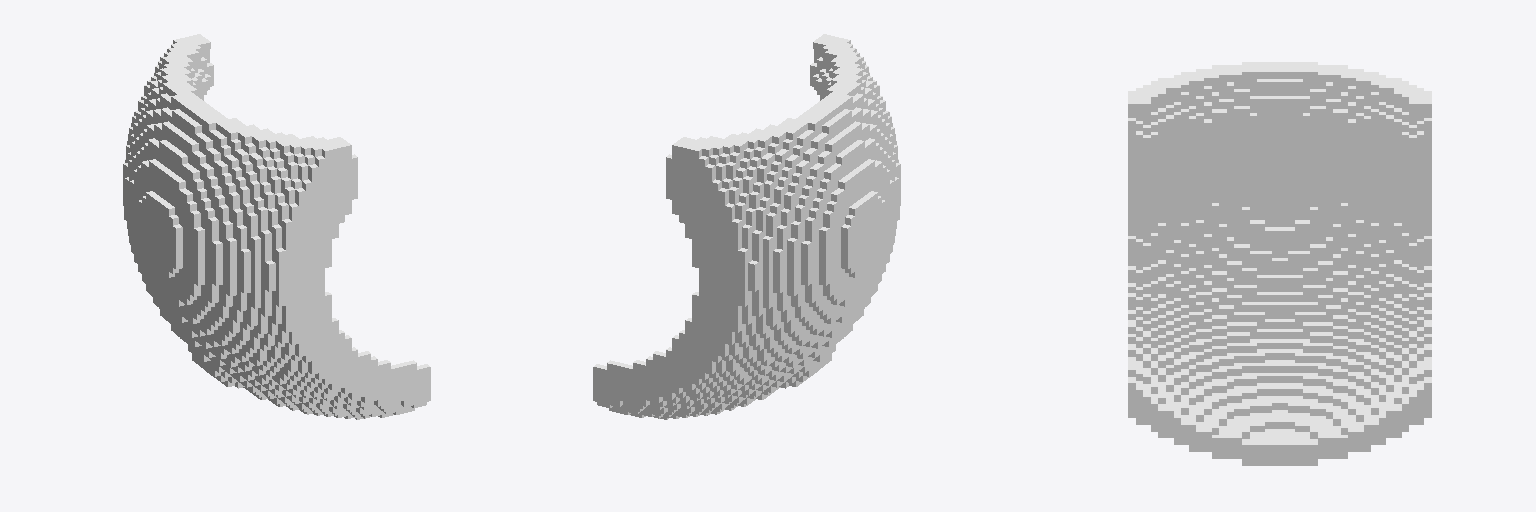
The model's file is Mirror_Top.obj.
The picture shows the model from 3 angles: view 1: azimuth 30°, elevation 25°; view 2: azimuth 150°, elevation 25°; view 3: azimuth 270°, elevation 25°; orthographic projection.
Visible parts, largest first — view 1: object 1; view 2: object 1; view 3: object 1.
Boxes of the visible parts, x1,y1,x2,y2 form: object 1: [123, 34, 430, 419]; object 1: [593, 34, 900, 419]; object 1: [1128, 62, 1431, 465].
Size of the model in its own units: 3 by 4.7 by 4.